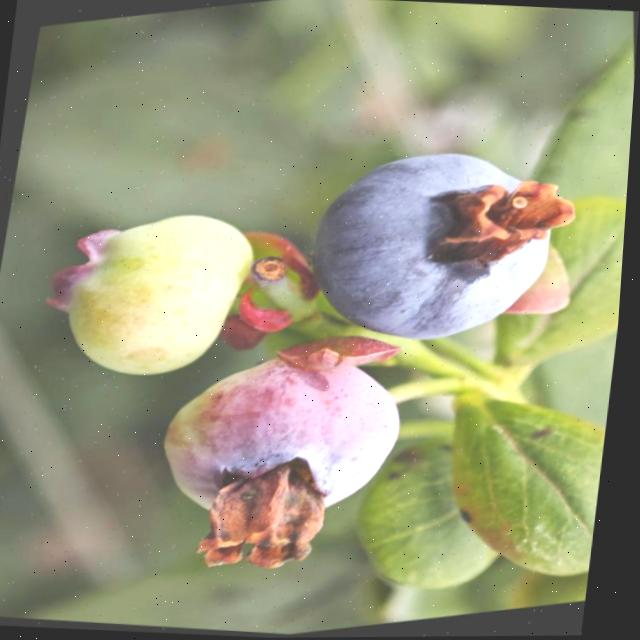RipeBlueBerry: (281, 123, 589, 372)
Semi-RipeBlueBerry: (138, 333, 433, 558)
UnripeBlueBerry: (30, 193, 281, 401)
